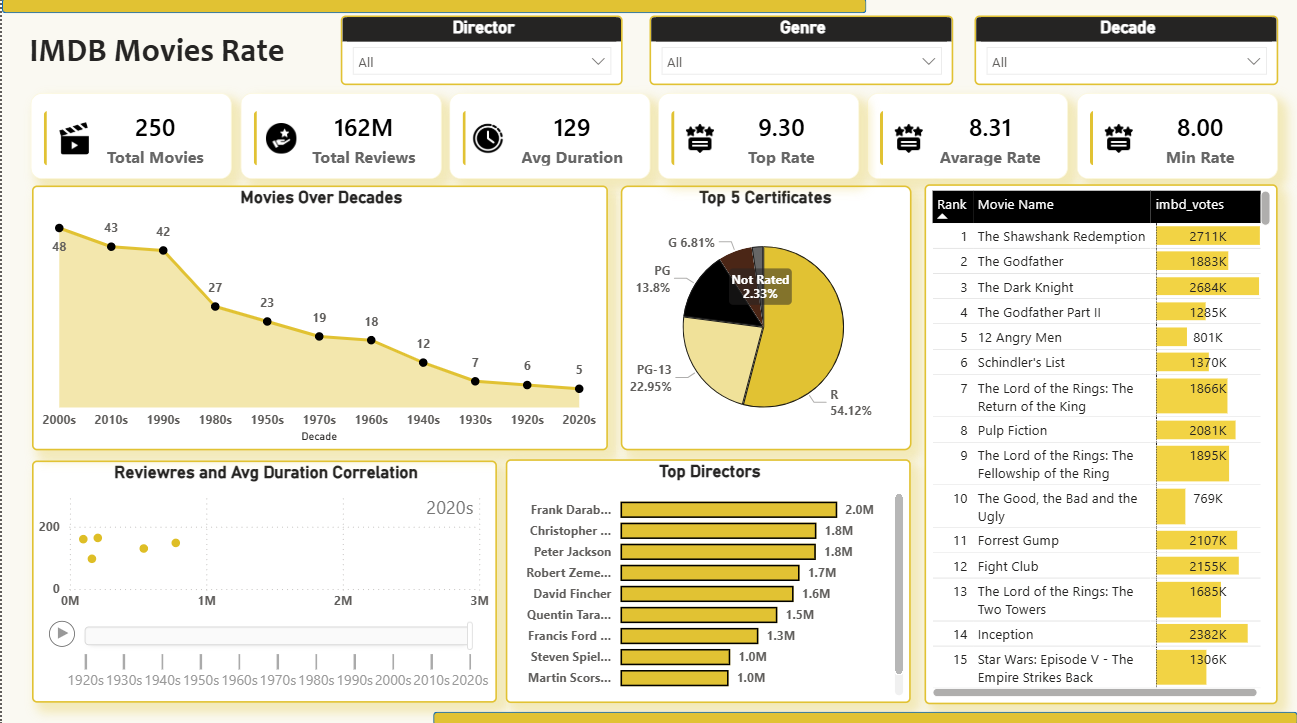

The dashboard page shown, as its layout file describes it:
{"tool":"powerbi","page":{"name":"Movies","canvas":[1280,720],"ordinal":0},"visuals":[{"type":"scatterChart","title":"Reviewres and Avg Duration Correlation","fields":{"Category":["movies.Movie Name"],"X":["Sum(movies.imbd_votes)"],"Y":["measure.AvgDuration"],"Play":["movies.Decade"]},"box":[16,456.8,472.8,239.5],"z":0},{"type":"cardVisual","fields":{"Data":["measure.NumOfMovies"]},"box":[16,93.8,198.8,85.2],"z":1000},{"type":"cardVisual","fields":{"Data":["measure.avgRate"]},"box":[852.2,94,198.8,85],"z":2000},{"type":"cardVisual","fields":{"Data":["Sum(movies.imbd_votes)"]},"box":[225.1,94,198.8,85],"z":3000},{"type":"cardVisual","fields":{"Data":["measure.AvgDuration"]},"box":[434.1,94,198.8,85],"z":4000},{"type":"lineChart","title":"Movies Over Decades","fields":{"Category":["movies.Decade"],"Y":["measure.NumOfMovies"]},"box":[16,185.2,569.1,261.7],"z":5000},{"type":"pieChart","title":"Top 5 Certificates","fields":{"Category":["movies.certificate"],"Y":["Sum(movies.imbd_votes)"]},"box":[595.1,185.2,302.5,260.5],"z":6000},{"type":"clusteredBarChart","title":"Top Directors","fields":{"Category":["movies.director_name"],"Y":["measure.Avg#Votes"]},"box":[497.7,455.8,400,240.7],"z":7000},{"type":"cardVisual","fields":{"Data":["measure.Max Rate"]},"box":[643.2,94,198.8,85],"z":8000},{"type":"cardVisual","fields":{"Data":["measure.Min Rate"]},"box":[1061.2,94,198.8,85],"z":9000},{"type":"tableEx","title":"Top 7 Movies ","fields":{"Values":["movies.rank","Min(movies.Movie Name)","Sum(movies.imbd_votes)"]},"box":[911.2,183.5,348.8,513.8],"z":11000},{"type":"shape","box":[0,0,853.8,15],"z":12000},{"type":"shape","box":[426.2,705,853.8,15],"z":13000},{"type":"textbox","box":[0,27.5,306.2,46.2],"z":14000},{"type":"slicer","title":"Decade","fields":{"Values":["movies.Decade"]},"box":[960,17,300,68.8],"z":15000},{"type":"slicer","title":"Genre","fields":{"Values":["movies.genre"]},"box":[640,17,300,68.8],"z":16000},{"type":"slicer","title":"Director","fields":{"Values":["movies.director_name"]},"box":[335,17,278.8,68.8],"z":17000}]}

Visuals, with their boxes in screenshot pixels (x1, y1, x2, y2), scaled from the page's 1280x720 canvas onto the 1297x723 screenshot:
"Reviewres and Avg Duration Correlation" scatterChart: bbox(16, 459, 495, 699)
cardVisual - measure.NumOfMovies: bbox(16, 94, 218, 180)
cardVisual - measure.avgRate: bbox(864, 94, 1065, 180)
cardVisual - Sum(movies.imbd_votes): bbox(228, 94, 430, 180)
cardVisual - measure.AvgDuration: bbox(440, 94, 641, 180)
"Movies Over Decades" lineChart: bbox(16, 186, 593, 449)
"Top 5 Certificates" pieChart: bbox(603, 186, 910, 448)
"Top Directors" clusteredBarChart: bbox(504, 458, 910, 699)
cardVisual - measure.Max Rate: bbox(652, 94, 853, 180)
cardVisual - measure.Min Rate: bbox(1075, 94, 1277, 180)
"Top 7 Movies " tableEx: bbox(923, 184, 1277, 700)
shape: bbox(0, 0, 865, 15)
shape: bbox(432, 708, 1296, 722)
textbox: bbox(0, 28, 310, 74)
"Decade" slicer: bbox(973, 17, 1277, 86)
"Genre" slicer: bbox(648, 17, 952, 86)
"Director" slicer: bbox(339, 17, 622, 86)
